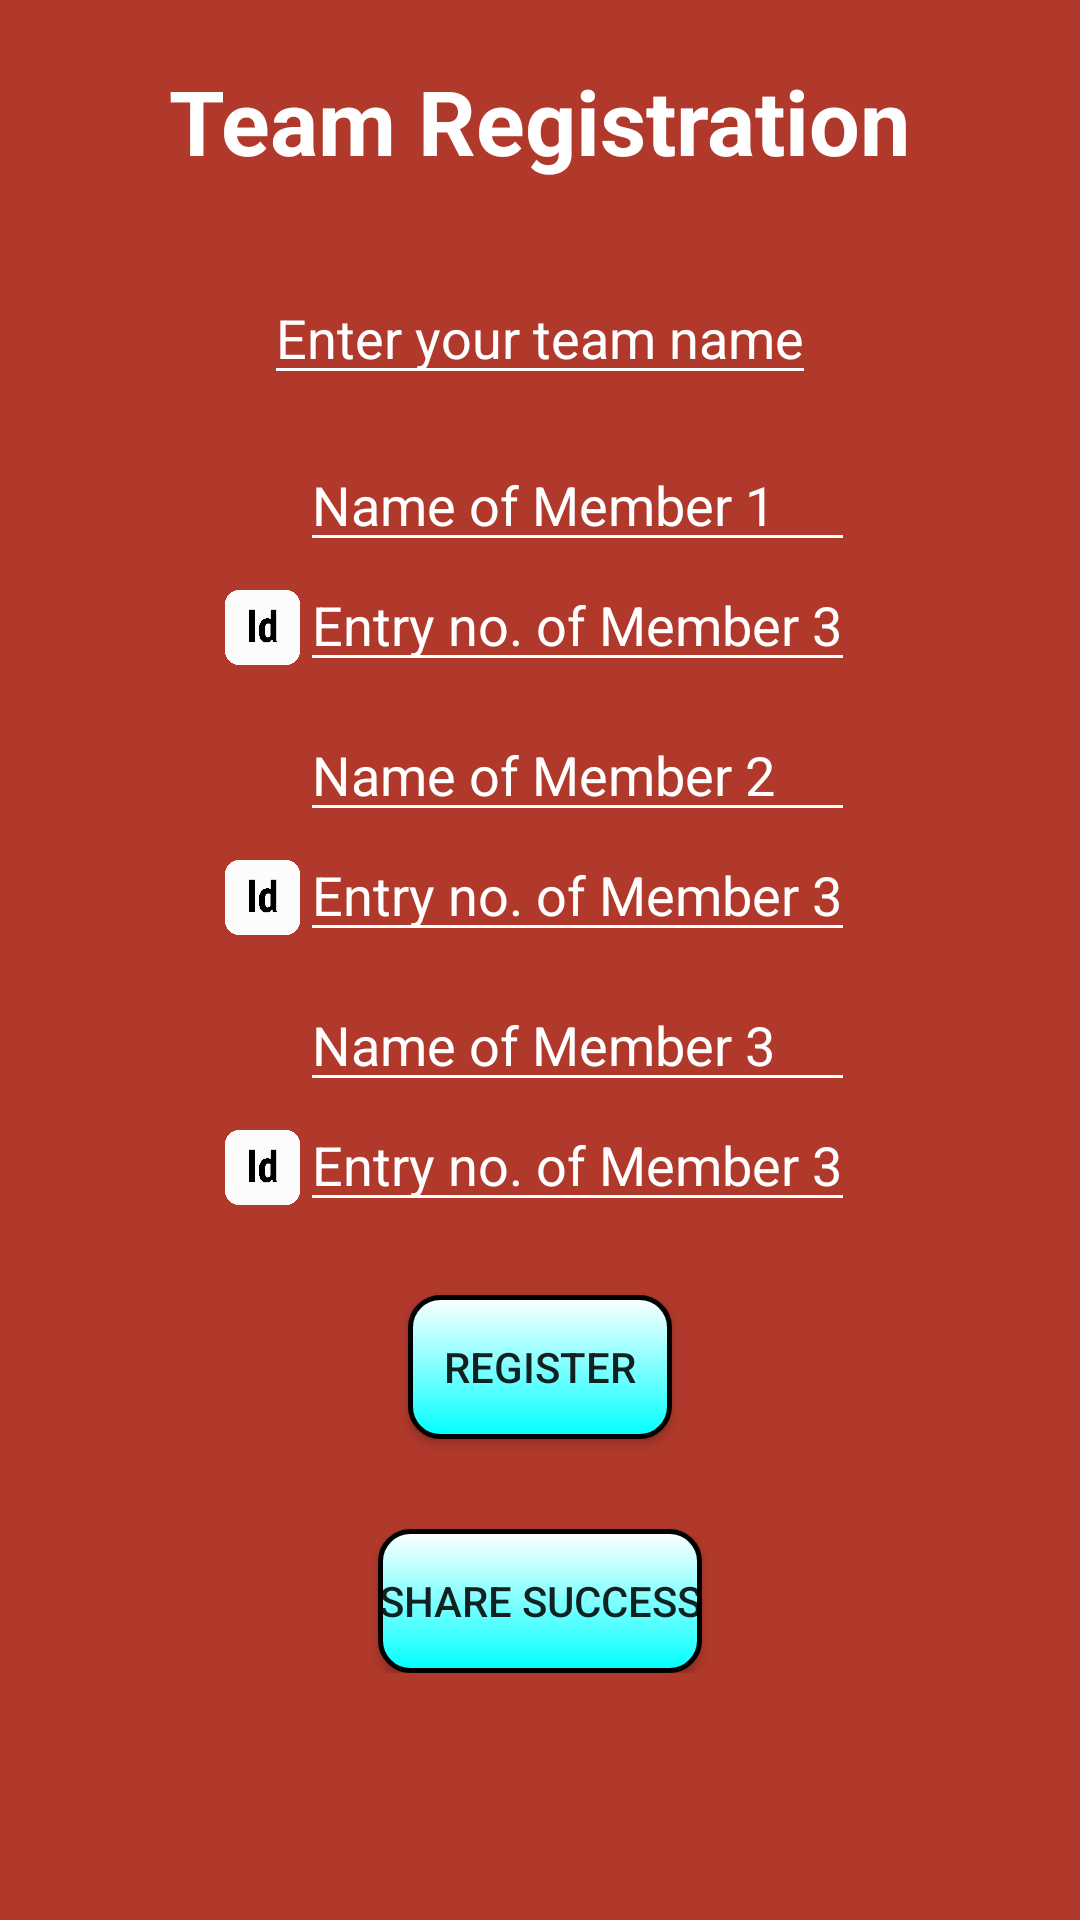

Screen size 1080w x 1920h. Icon name, then its box in pixels as (x1, y1, x2, y2):
entryicon: (225, 590, 300, 665), (225, 860, 300, 935), (225, 1130, 300, 1205)
